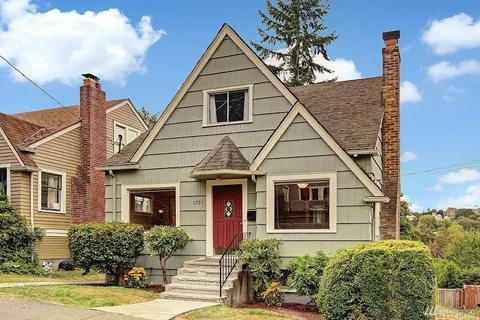private_hause: (112, 22, 397, 259)
